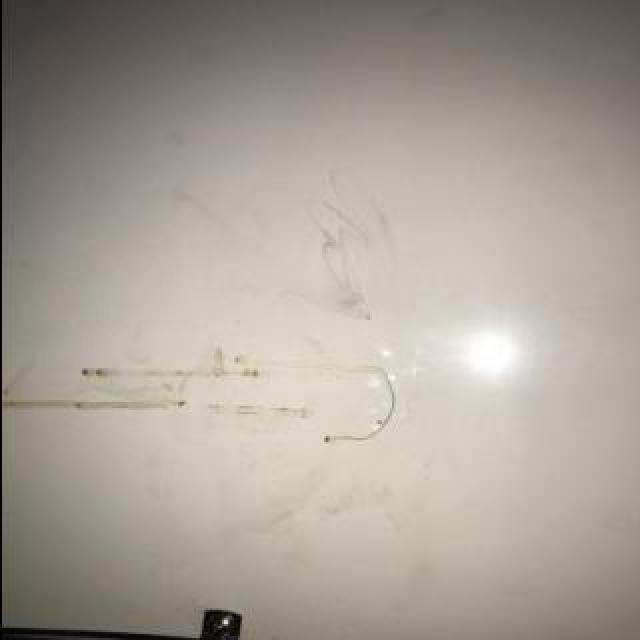crack: (321, 361, 399, 445)
